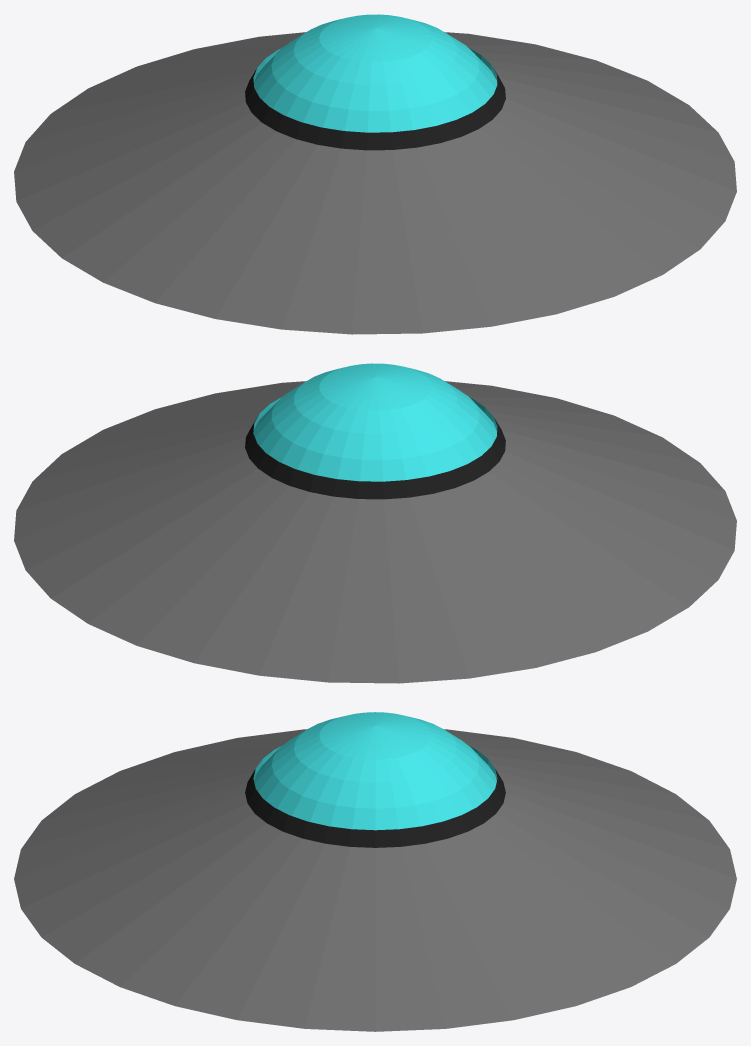
Rendered from Ovni.fbx.
3 views of the same model, one above another, from view 1: azimuth 30°, elevation 25°; view 2: azimuth 150°, elevation 25°; view 3: azimuth 270°, elevation 25° (orthographic).
Visible parts, largest first — view 1: Ovni; view 2: Ovni; view 3: Ovni.
Part boxes in pixels (x1,y1,x2,y2): Ovni: (14, 14, 736, 334); Ovni: (14, 363, 736, 683); Ovni: (14, 712, 736, 1031).
Bounding box in the file's own units: 1119 × 445 × 1119.
